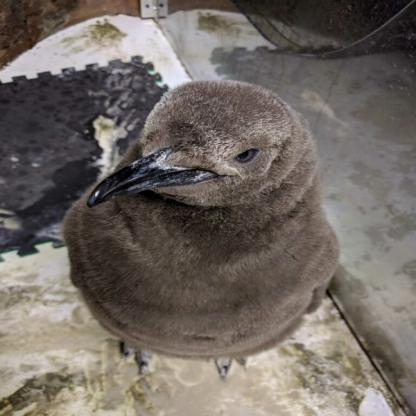Penguin: (40, 72, 361, 380)
